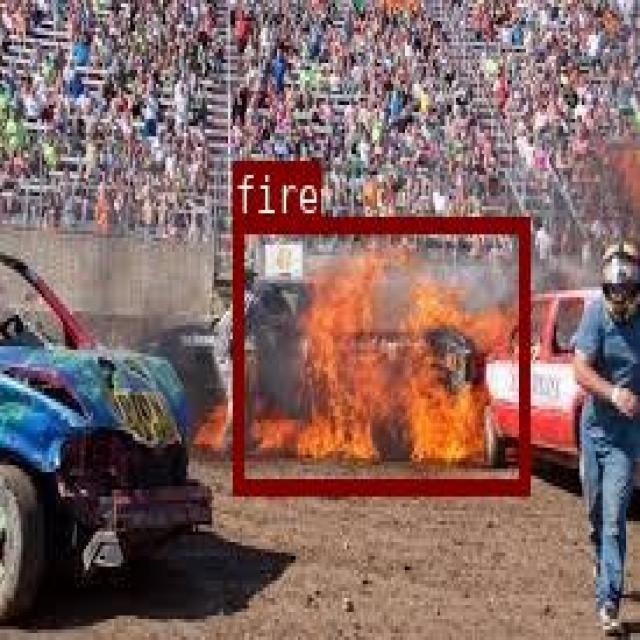fire: (232, 216, 528, 493)
